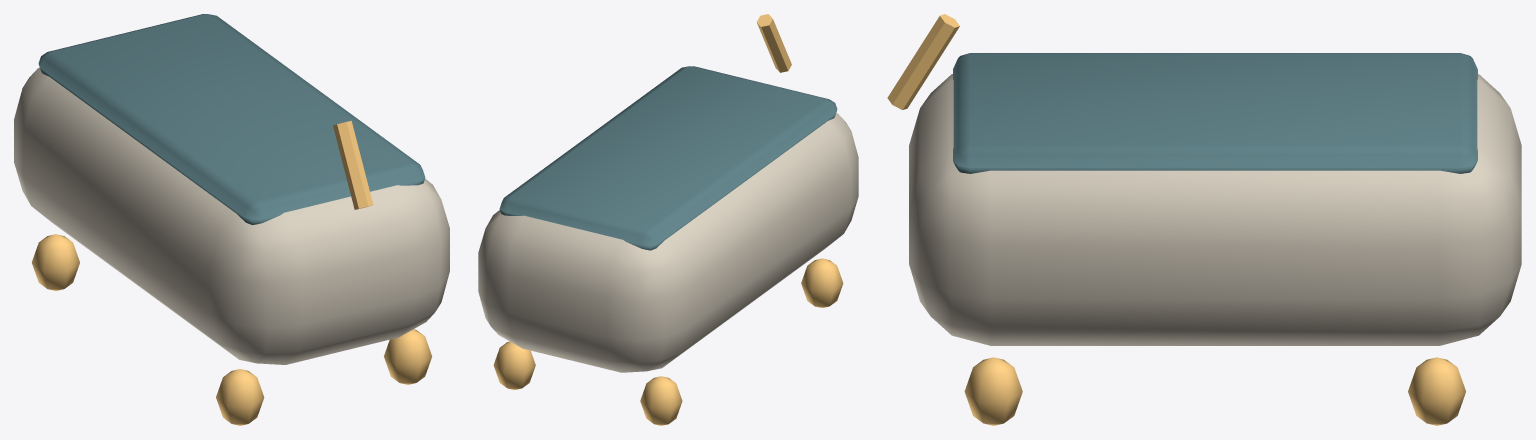
The model's file is bathtub.fbx.
The picture shows the model from 3 angles, left to right: view 1: azimuth 30°, elevation 25°; view 2: azimuth 150°, elevation 25°; view 3: azimuth 270°, elevation 25°; orthographic projection. The views are drawn at different scales.
Visible parts, largest first — view 1: Prop; view 2: Prop; view 3: Prop.
Part boxes in pixels (box(x1,y1,x2,y2)): Prop: box(14, 14, 449, 425); Prop: box(478, 14, 858, 425); Prop: box(887, 14, 1521, 425).
Size of the model in its own units: 0.55 by 1.09 by 0.6829.
